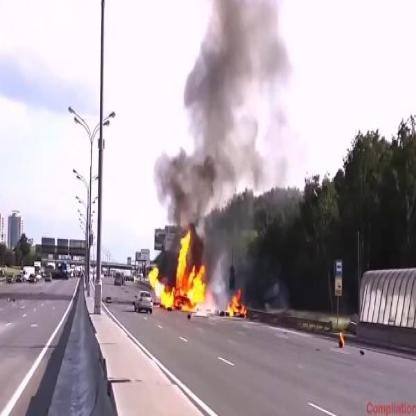fire: (146, 227, 250, 323), (340, 328, 346, 348)
